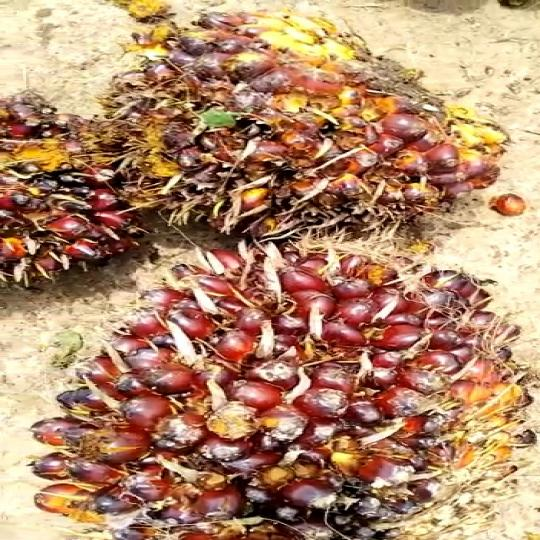masak: (37, 247, 531, 540), (111, 13, 523, 244)
